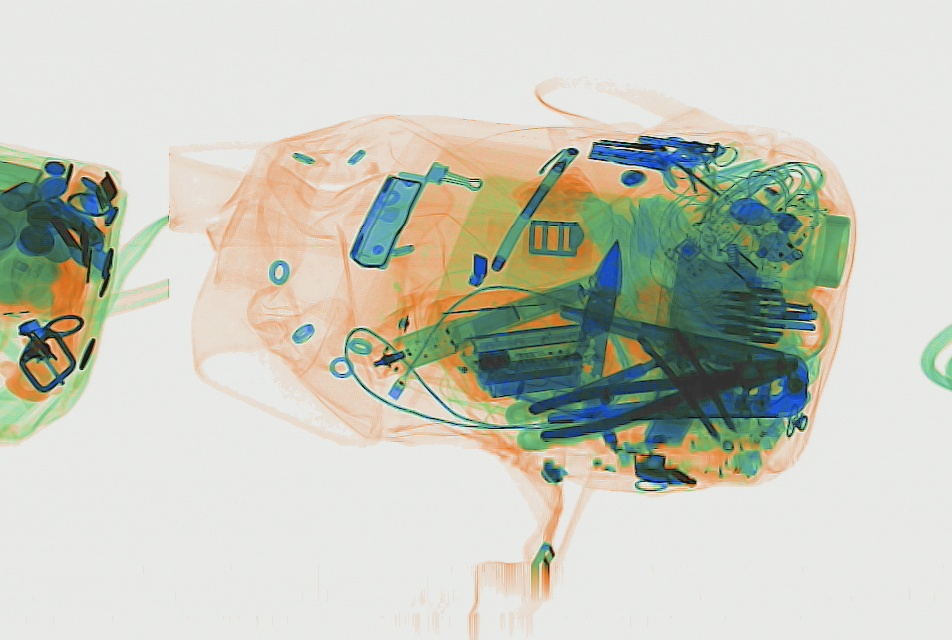knife: (465, 321, 587, 353)
powerbank: (469, 345, 592, 400)
scissors: (567, 236, 625, 378)
